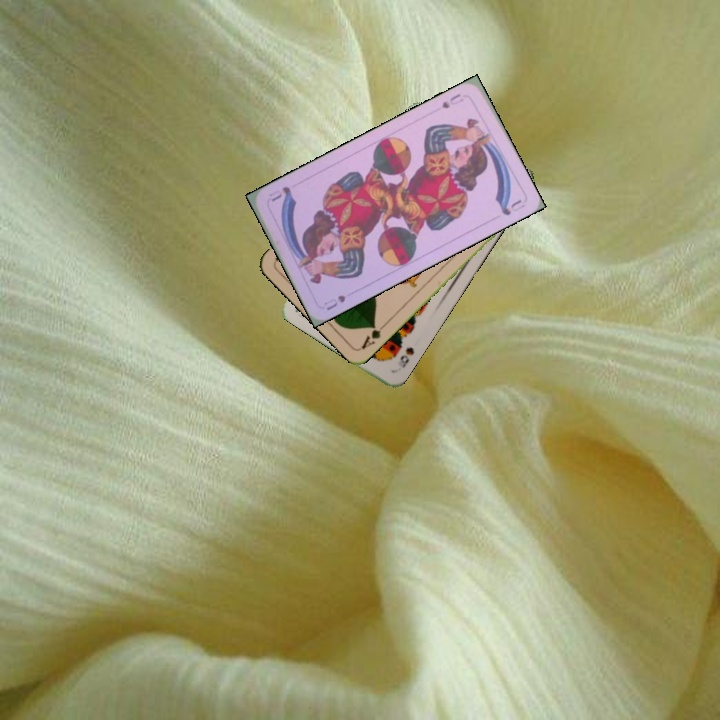GA: (357, 319, 389, 352)
S8: (394, 343, 417, 371)
SU: (320, 291, 348, 313), (438, 89, 466, 111)
